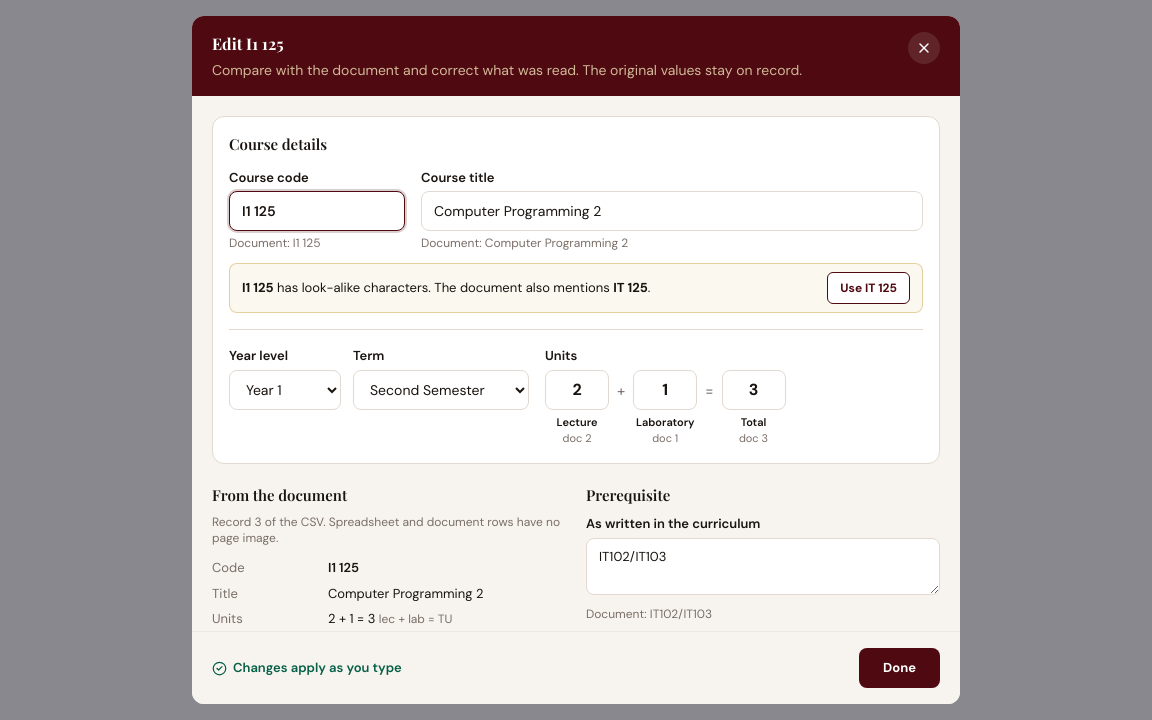
Scenario: edit course modal › shows document values next to edited fields
Click the button "Use IT 125" at {"x": 869, "y": 288}, box [827, 272, 910, 304]
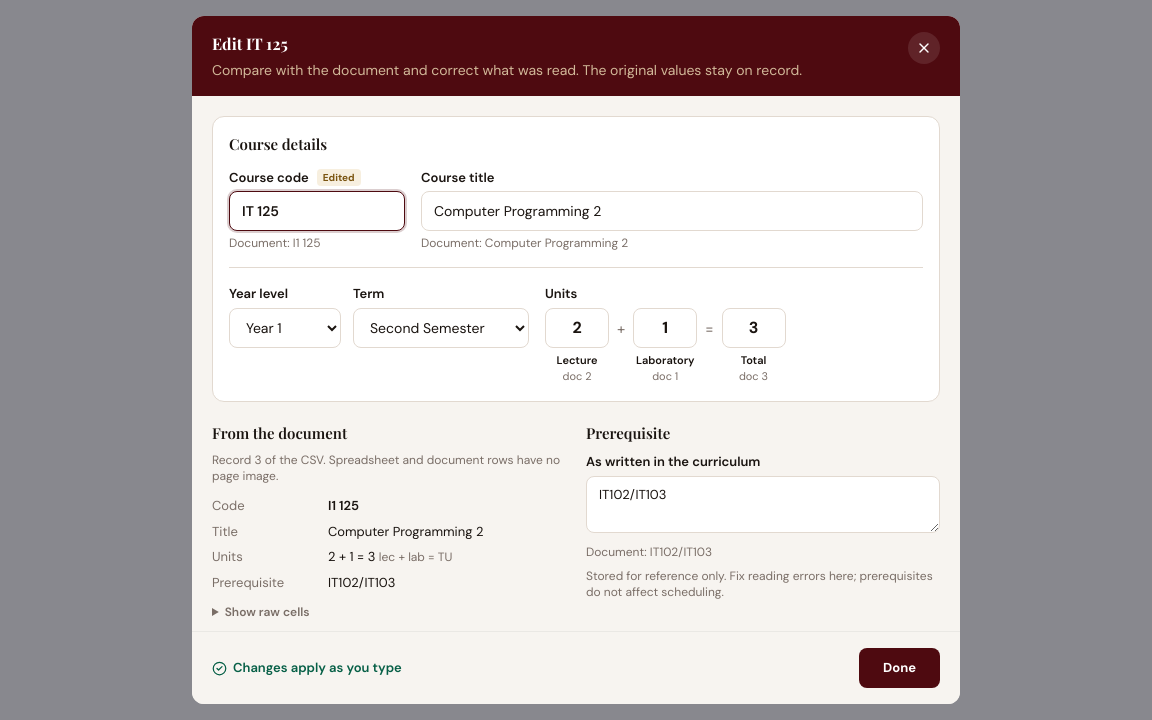
Expected: the text "Document: I1 125" is shown, [229, 235, 321, 251]
Now the text "Edited" is shown, box [317, 169, 361, 186]
